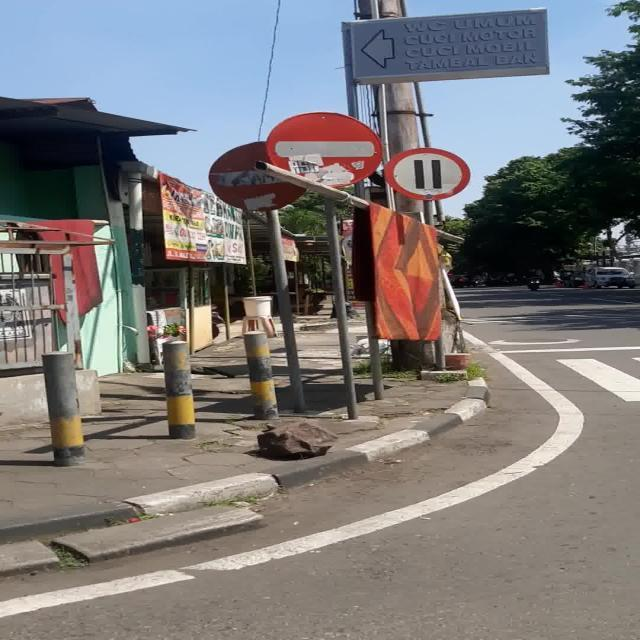Larangan Muatan - 10 ton: (384, 147, 470, 200)
